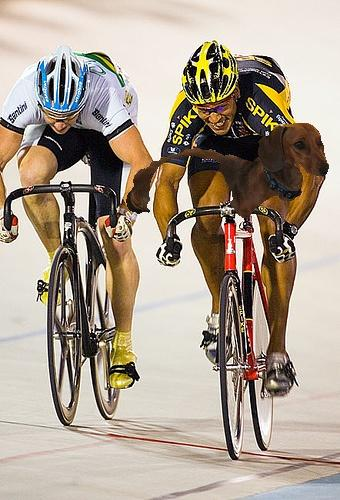tampered: (127, 124, 329, 218)
